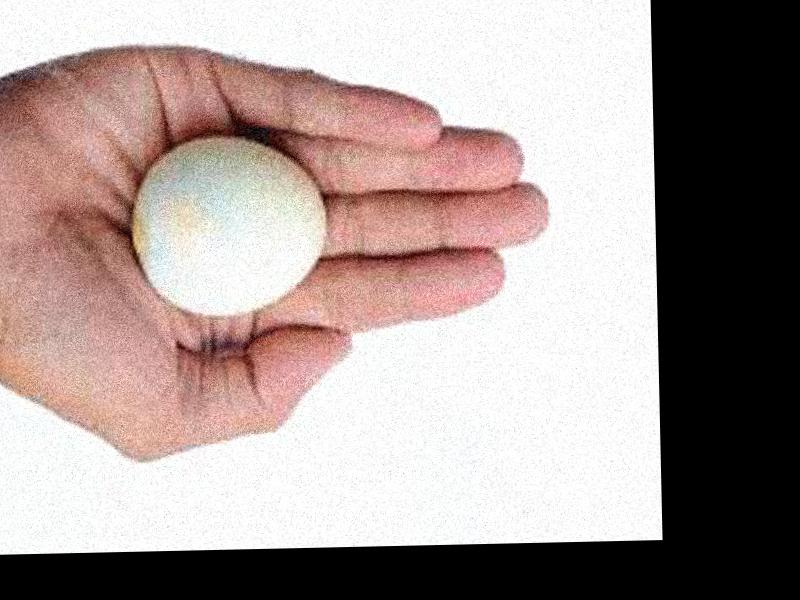Eggs: (131, 138, 331, 313)
